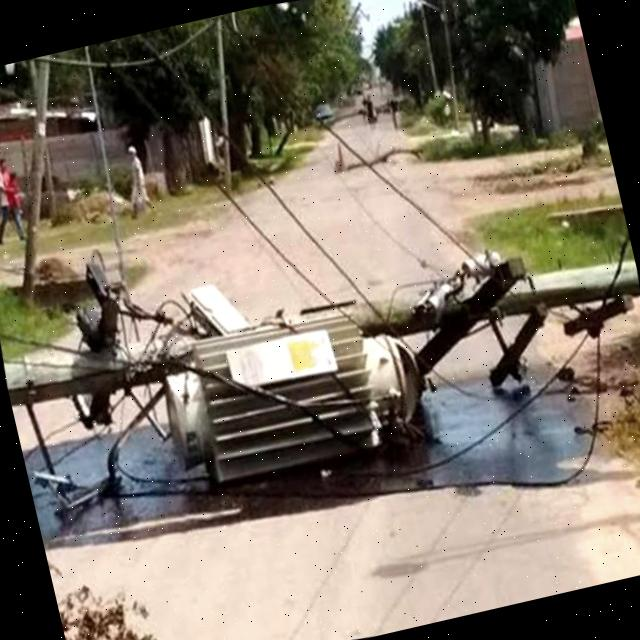Broken Pole: (7, 250, 640, 495)
